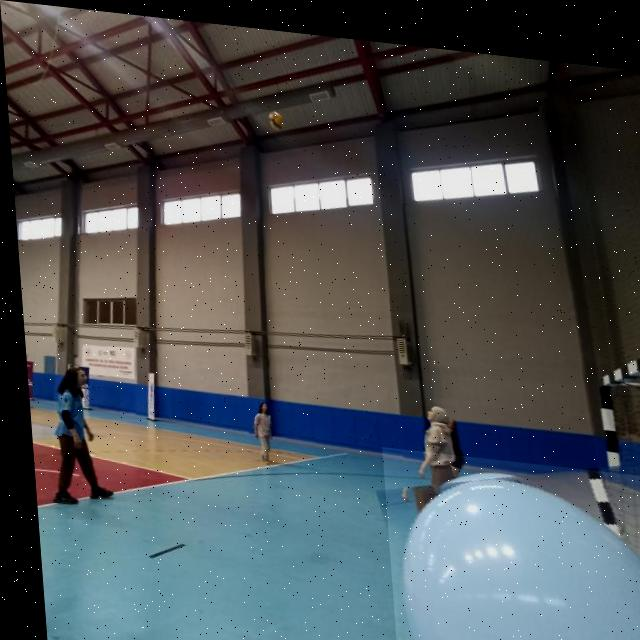balloon: (376, 439, 640, 640)
